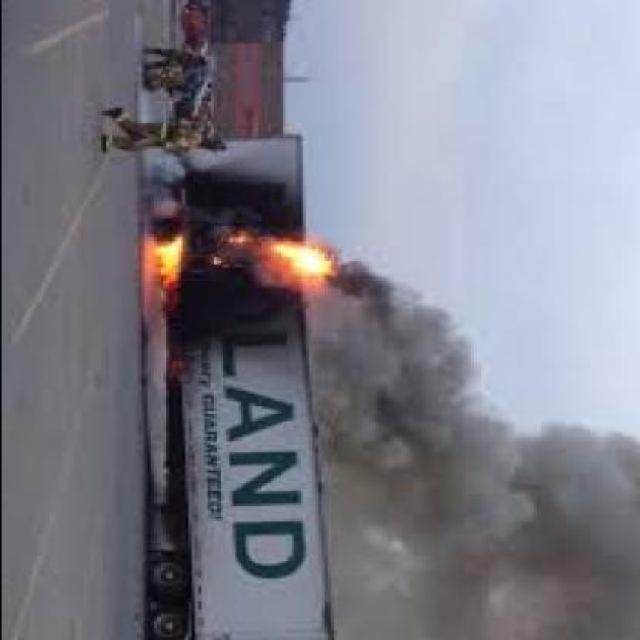Fire: (248, 226, 326, 288), (152, 228, 182, 293)
Smoke: (306, 284, 640, 640)
